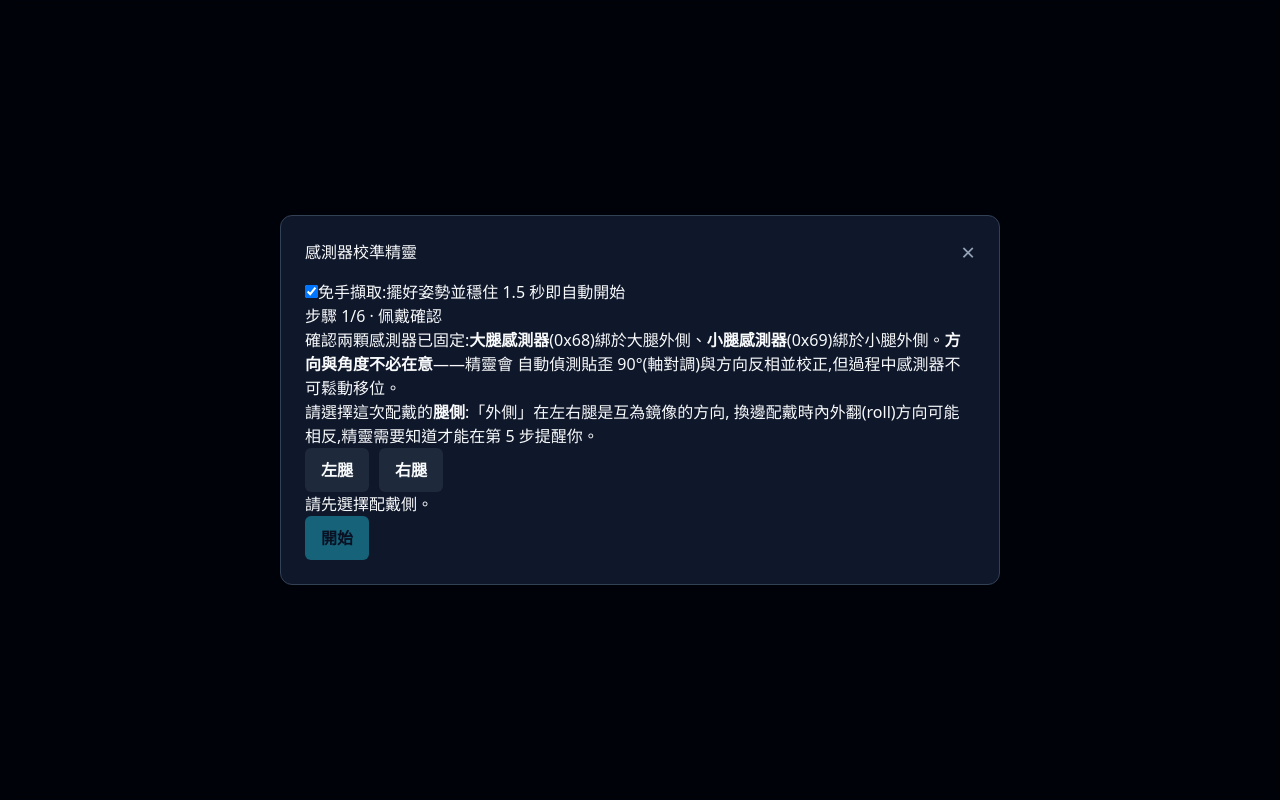
CalibrationWizard 步驟 1:配戴側閘門 › 已連線且選了配戴側後「開始」才能按下,並進入步驟 2
The image size is (1280, 800).
Click the button "右腿" at coordinates (411, 470), box top-left (379, 448), bottom-right (443, 492)
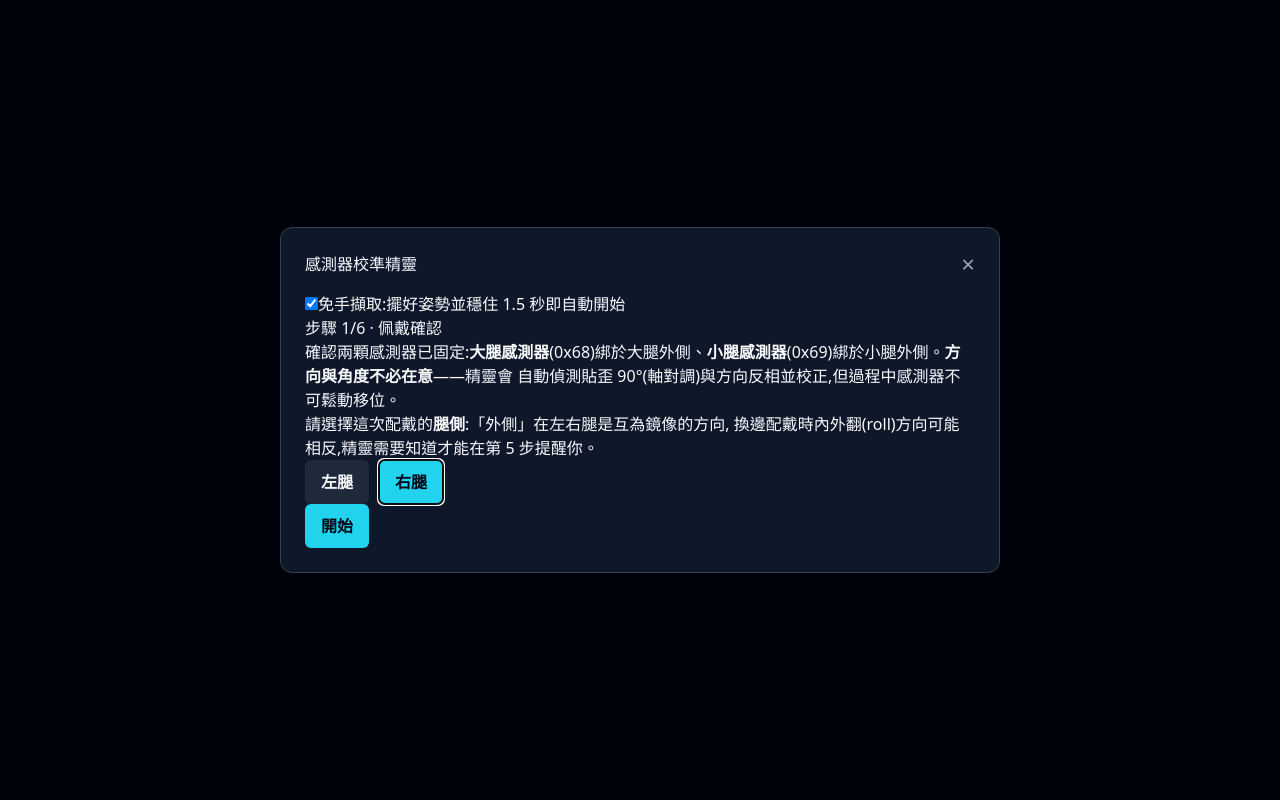
expect the button "開始" is enabled: met
Click the button "開始" at coordinates (337, 526), box top-left (305, 504), bottom-right (369, 548)
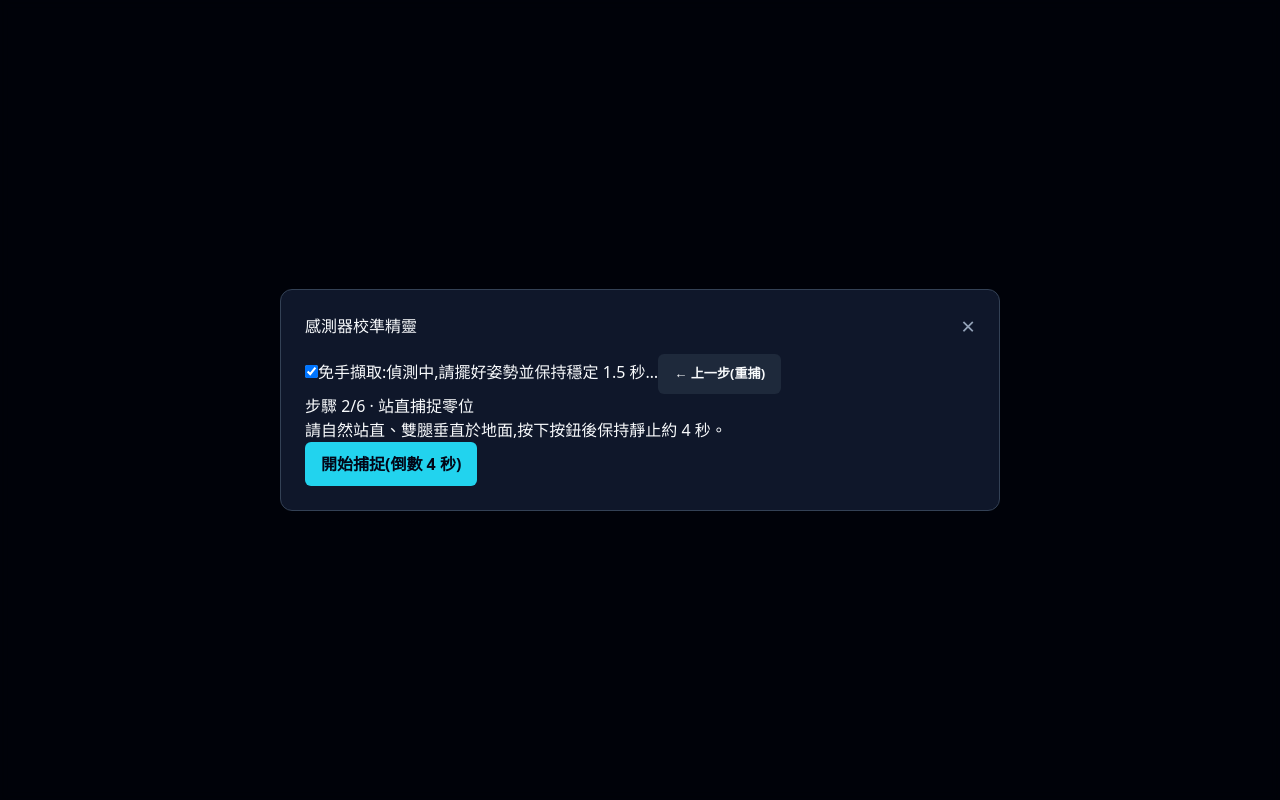
expect the heading "步驟 2/6 · 站直捕捉零位" is shown: met, box top-left (305, 395), bottom-right (474, 417)
